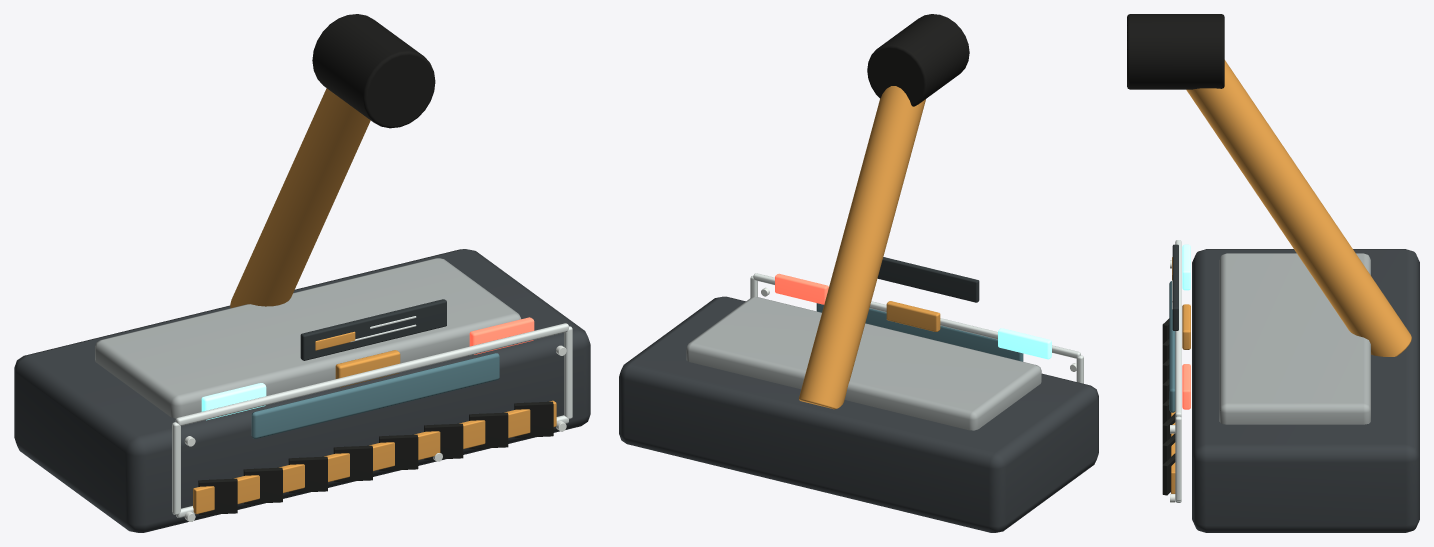
File: hp_switch_panel_floor_lever.glb
The picture shows the model from 3 angles, left to right: view 1: azimuth 30°, elevation 25°; view 2: azimuth 150°, elevation 25°; view 3: azimuth 270°, elevation 25°; orthographic projection. The views are drawn at different scales.
Parts seen in each view (by area): view 1: switch_panel_floor_lever_floor_base, switch_panel_floor_lever_recess_plate, switch_panel_floor_lever_lever_handle, switch_panel_floor_lever_handle_grip, switch_panel_floor_lever_lever_base_color_field_art_color_bl, switch_panel_floor_lever_base_hazard_hazard_band_back, switch_panel_floor_lever_base_trim_trim_top, switch_panel_floor_lever_warning_label_label_plate_body, switch_panel_floor_lever_status_red, switch_panel_floor_lever_status_amber, switch_panel_floor_lever_status_cyan, switch_panel_floor_lever_base_hazard_hazard_black_slash_07 (+9 smaller); view 2: switch_panel_floor_lever_floor_base, switch_panel_floor_lever_recess_plate, switch_panel_floor_lever_lever_handle, switch_panel_floor_lever_handle_grip, switch_panel_floor_lever_warning_label_label_plate_body, switch_panel_floor_lever_lever_base_color_field_art_color_bl, switch_panel_floor_lever_status_amber, switch_panel_floor_lever_status_cyan, switch_panel_floor_lever_status_red, switch_panel_floor_lever_base_trim_trim_top; view 3: switch_panel_floor_lever_floor_base, switch_panel_floor_lever_recess_plate, switch_panel_floor_lever_lever_handle, switch_panel_floor_lever_handle_grip, switch_panel_floor_lever_base_trim_trim_top, switch_panel_floor_lever_lever_base_color_field_art_color_bl, switch_panel_floor_lever_warning_label_label_plate_body, switch_panel_floor_lever_base_trim_trim_right, switch_panel_floor_lever_status_cyan, switch_panel_floor_lever_status_red, switch_panel_floor_lever_status_amber, switch_panel_floor_lever_base_hazard_hazard_black_slash_08.
Boxes of the visible parts, x1,y1,x2,y2 form: switch_panel_floor_lever_floor_base: (14,249,590,532); switch_panel_floor_lever_recess_plate: (95,258,520,418); switch_panel_floor_lever_lever_handle: (230,88,370,308); switch_panel_floor_lever_handle_grip: (312,14,435,128); switch_panel_floor_lever_lever_base_color_field_art_color_bl: (251,353,499,438); switch_panel_floor_lever_base_hazard_hazard_band_back: (193,400,556,514); switch_panel_floor_lever_base_trim_trim_top: (175,323,568,425); switch_panel_floor_lever_warning_label_label_plate_body: (300,299,446,360); switch_panel_floor_lever_status_red: (469,317,534,354); switch_panel_floor_lever_status_amber: (335,350,400,387); switch_panel_floor_lever_status_cyan: (201,383,266,420); switch_panel_floor_lever_base_hazard_hazard_black_slash_07: (469,412,508,448); switch_panel_floor_lever_floor_base: (619,296,1098,532); switch_panel_floor_lever_recess_plate: (686,297,1041,430); switch_panel_floor_lever_lever_handle: (799,86,925,409); switch_panel_floor_lever_handle_grip: (867,14,969,106); switch_panel_floor_lever_warning_label_label_plate_body: (877,257,979,302); switch_panel_floor_lever_lever_base_color_field_art_color_bl: (816,303,1023,361); switch_panel_floor_lever_status_amber: (886,301,940,331); switch_panel_floor_lever_status_cyan: (998,328,1051,359); switch_panel_floor_lever_status_red: (775,273,828,304); switch_panel_floor_lever_base_trim_trim_top: (753,273,1080,358); switch_panel_floor_lever_floor_base: (1192,249,1419,532); switch_panel_floor_lever_recess_plate: (1219,253,1370,424); switch_panel_floor_lever_lever_handle: (1186,60,1411,356); switch_panel_floor_lever_handle_grip: (1127,14,1224,89); switch_panel_floor_lever_base_trim_trim_top: (1175,240,1181,417); switch_panel_floor_lever_lever_base_color_field_art_color_bl: (1169,281,1175,412); switch_panel_floor_lever_warning_label_label_plate_body: (1172,244,1178,330); switch_panel_floor_lever_base_trim_trim_right: (1175,416,1181,500); switch_panel_floor_lever_status_cyan: (1182,244,1190,290); switch_panel_floor_lever_status_red: (1182,364,1190,409); switch_panel_floor_lever_status_amber: (1182,304,1190,349); switch_panel_floor_lever_base_hazard_hazard_black_slash_08: (1162,453,1175,495).
Size of the model in its own units: 0.9 by 0.85 by 0.54.
